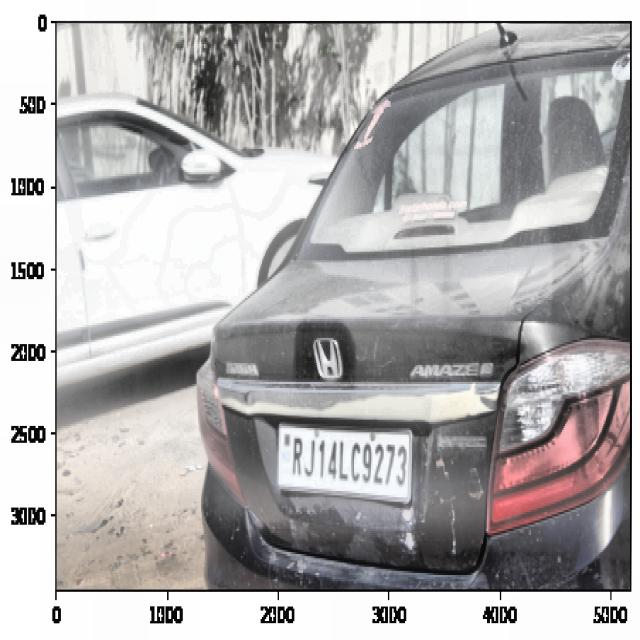license_plate: (282, 426, 414, 496)
